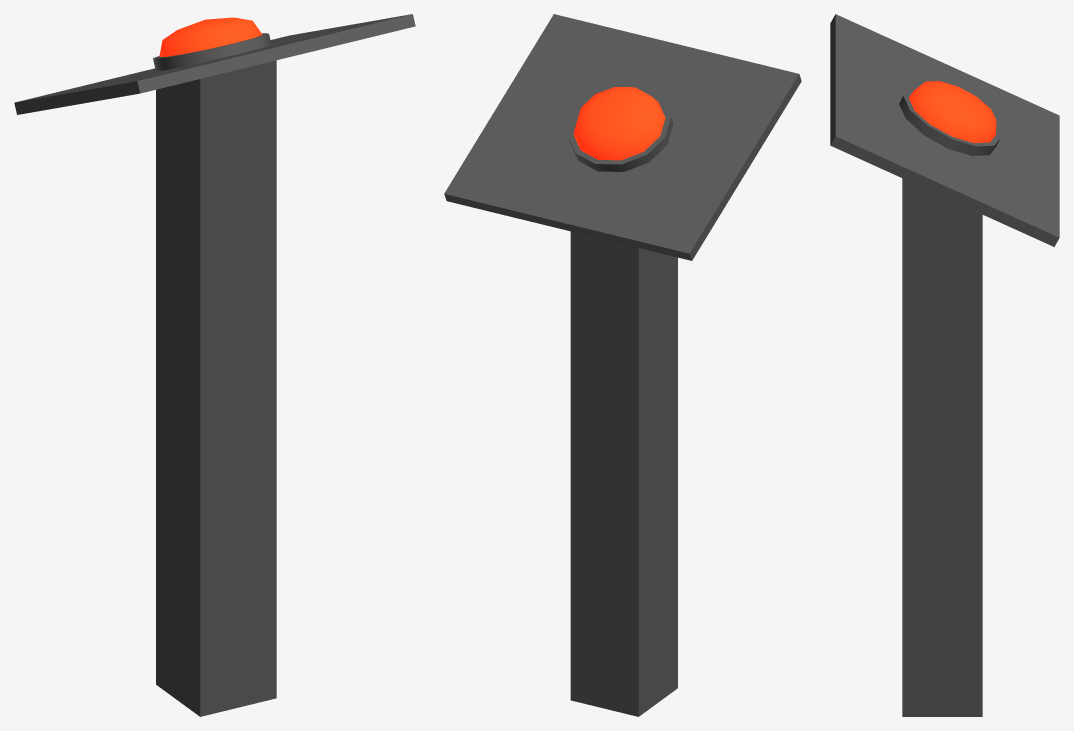
The model's file is Button.fbx.
3 renders of one model, left to right at view 1: azimuth 30°, elevation 25°; view 2: azimuth 150°, elevation 25°; view 3: azimuth 270°, elevation 25°, orthographic. The views are drawn at different scales.
Visible parts, largest first — view 1: ButtonStand, Button; view 2: ButtonStand, Button; view 3: ButtonStand, Button.
Part boxes in pixels (bbox=[...]): ButtonStand: bbox=[14, 14, 415, 716]; Button: bbox=[159, 17, 262, 56]; ButtonStand: bbox=[444, 14, 801, 716]; Button: bbox=[573, 87, 665, 160]; ButtonStand: bbox=[830, 14, 1059, 716]; Button: bbox=[909, 81, 996, 143].
Size of the model in its own units: 50.4 by 120 by 39.95.
